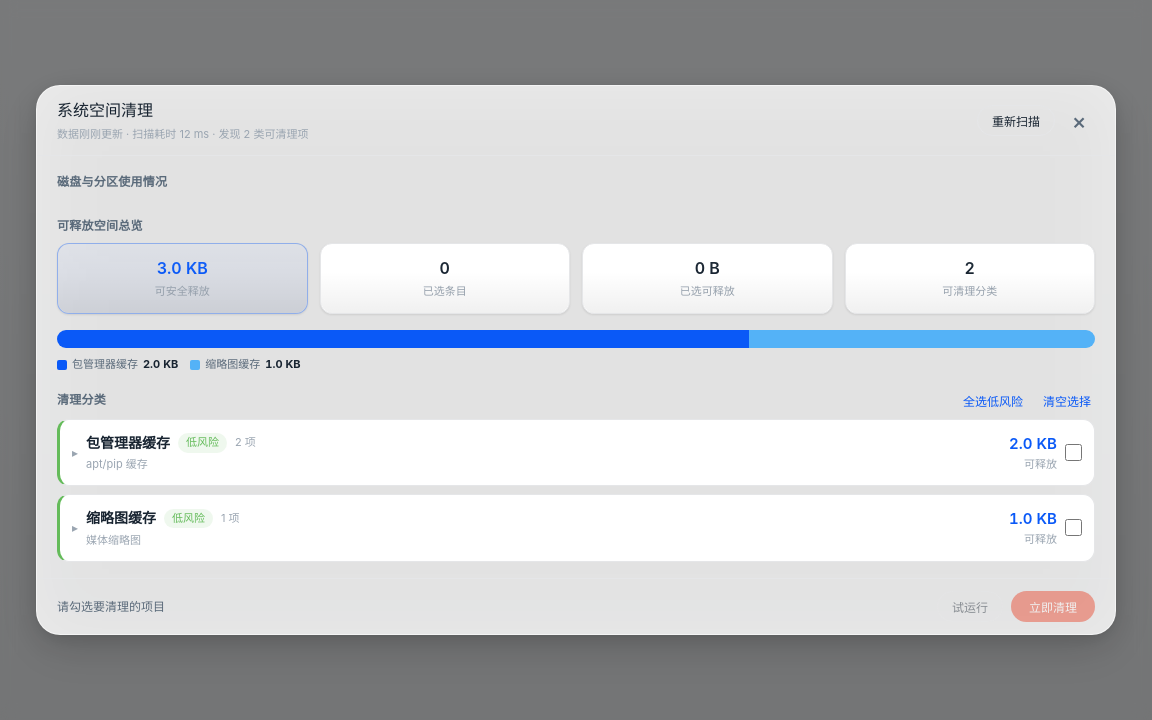
Test case: SpaceCleanPanel 清理分类折叠 › 折叠状态下仍可通过分类勾选框批量选中
The width and height of the screenshot is (1152, 720).
Click the checkbox in the row of "2 项" at (1074, 452), box [1065,444,1082,461]
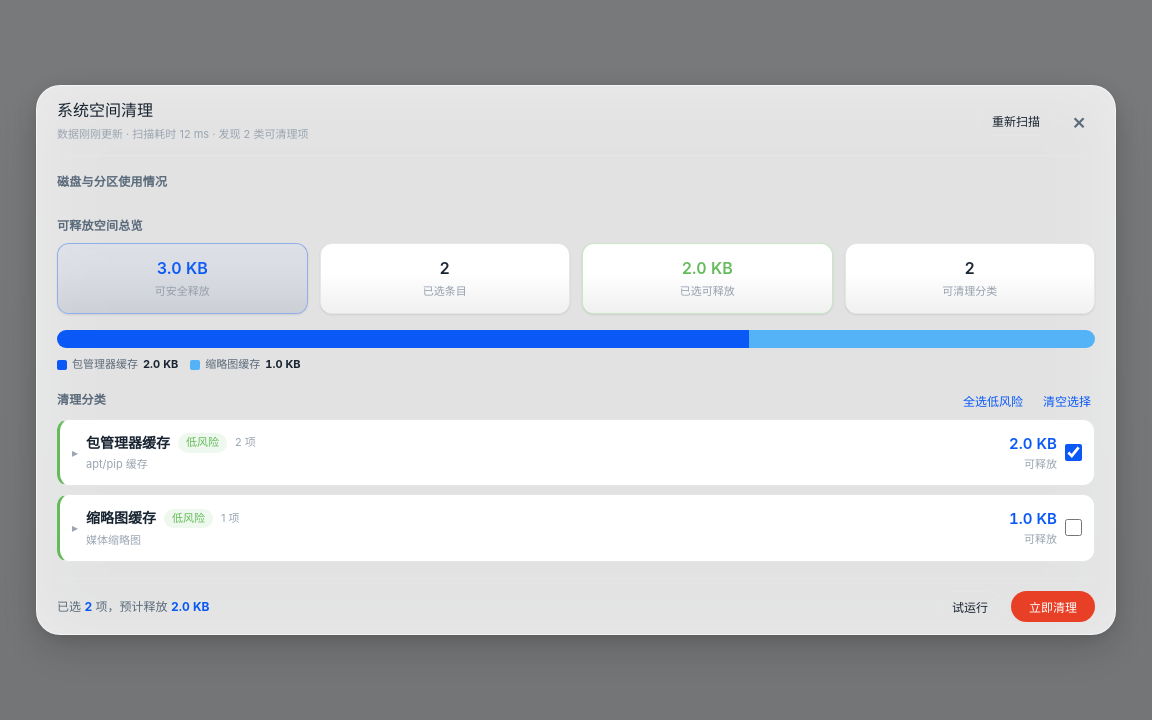
Check: the text "已选 2 项" is shown, box [57,597,210,616]
